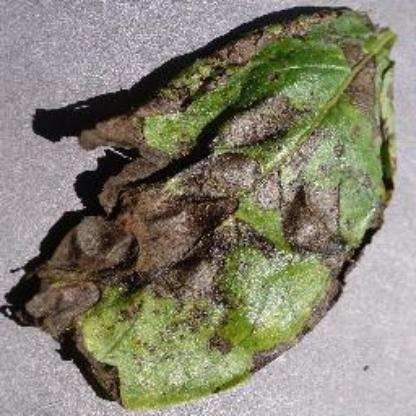Early-Blight: (18, 7, 392, 409)
